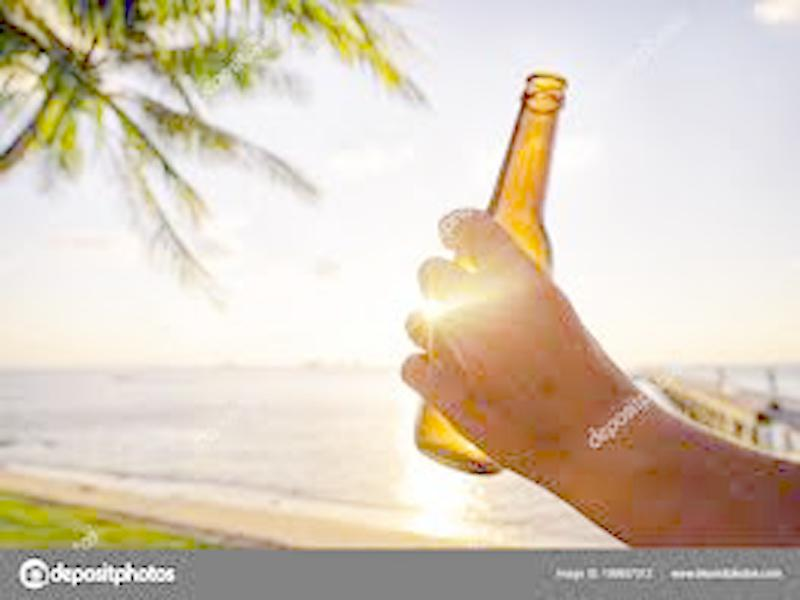Beer: (414, 72, 569, 475)
